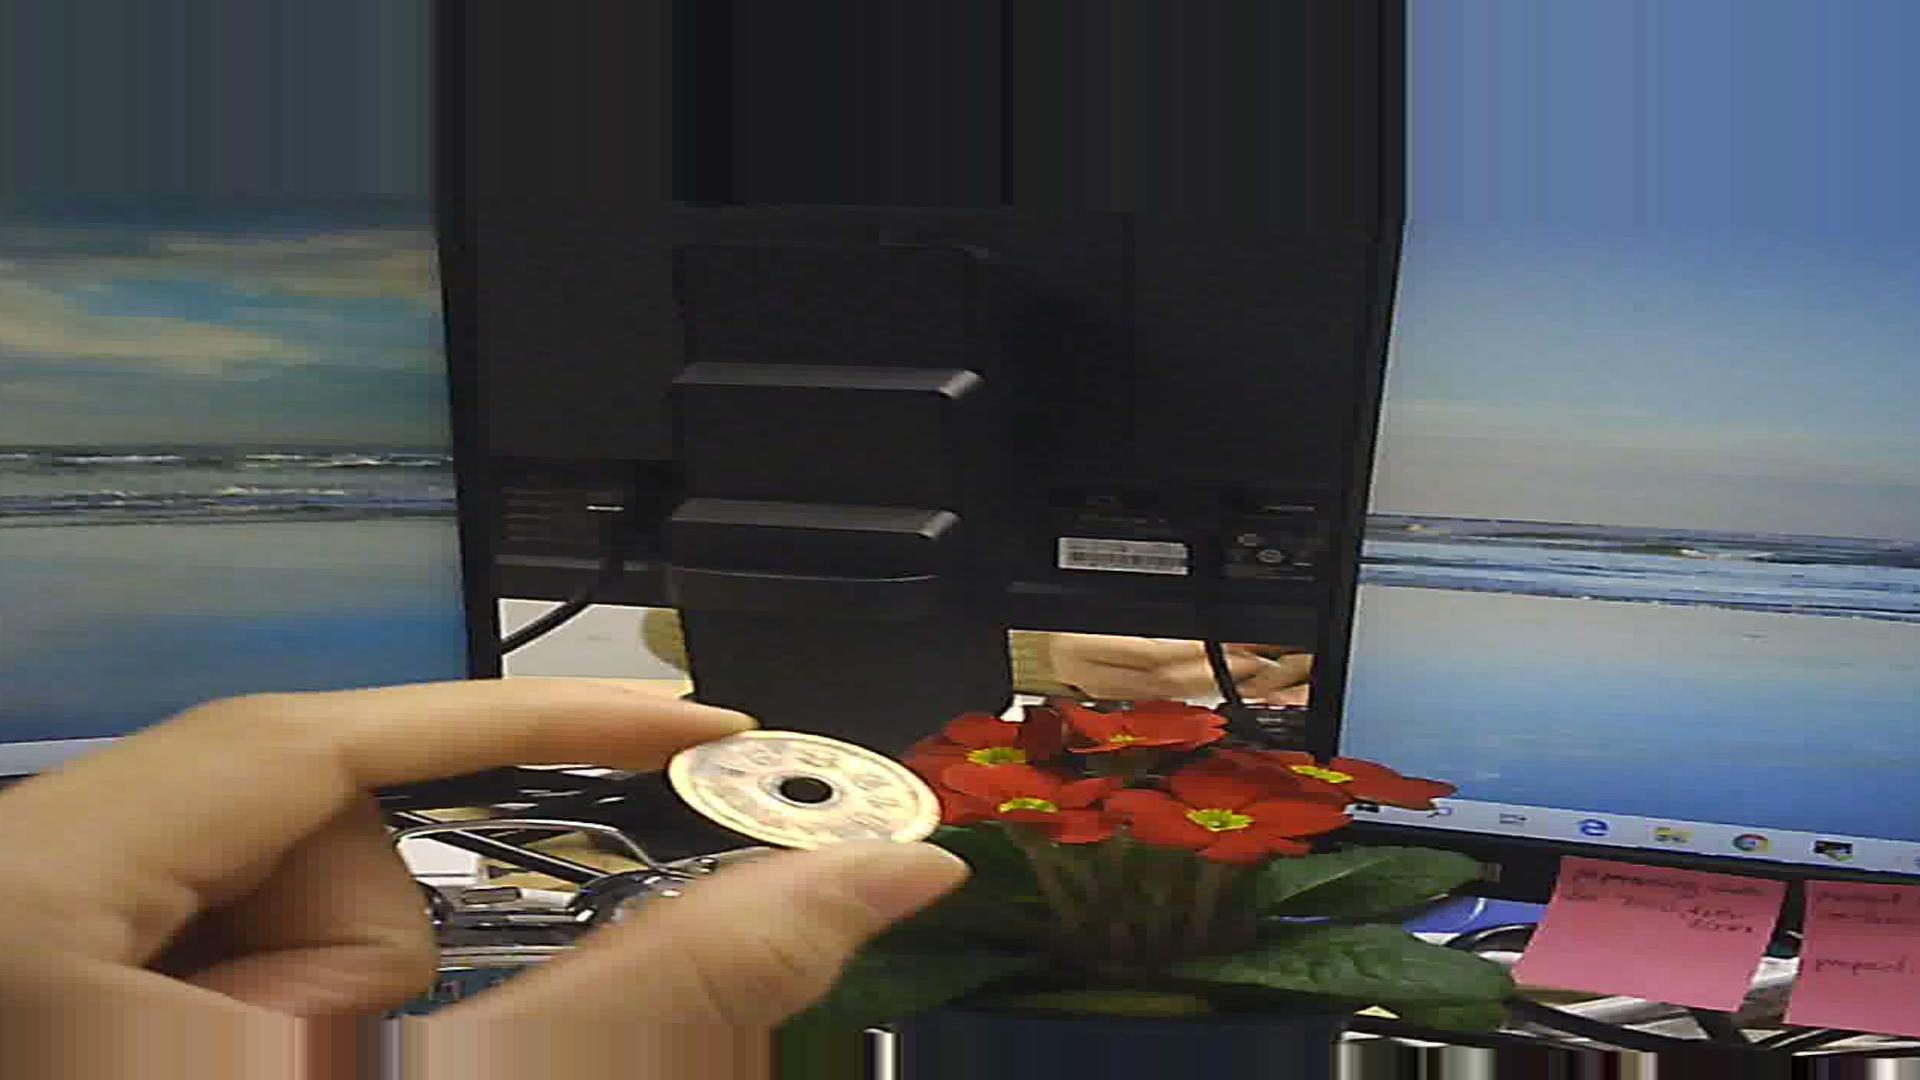5 Yen: (673, 724, 936, 852)
